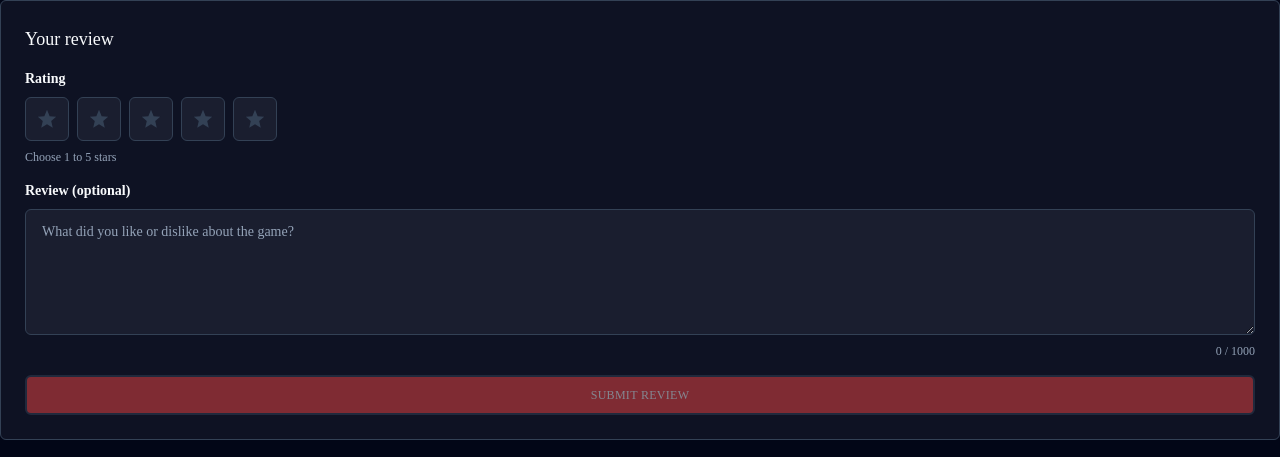
<ReviewForm /> › counts the typed text
Type "12345" into the text box with test id "review-body-input". click: (640, 272)
box: [25,209,1255,335]
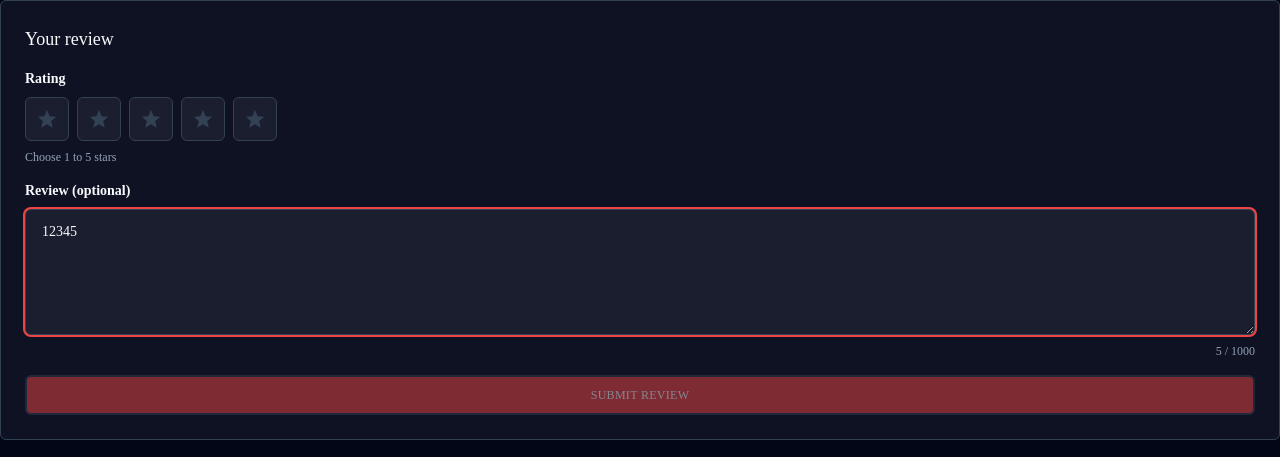
Now the text with test id "review-counter" reads "5 / 1000", box [1216,343,1255,359]
